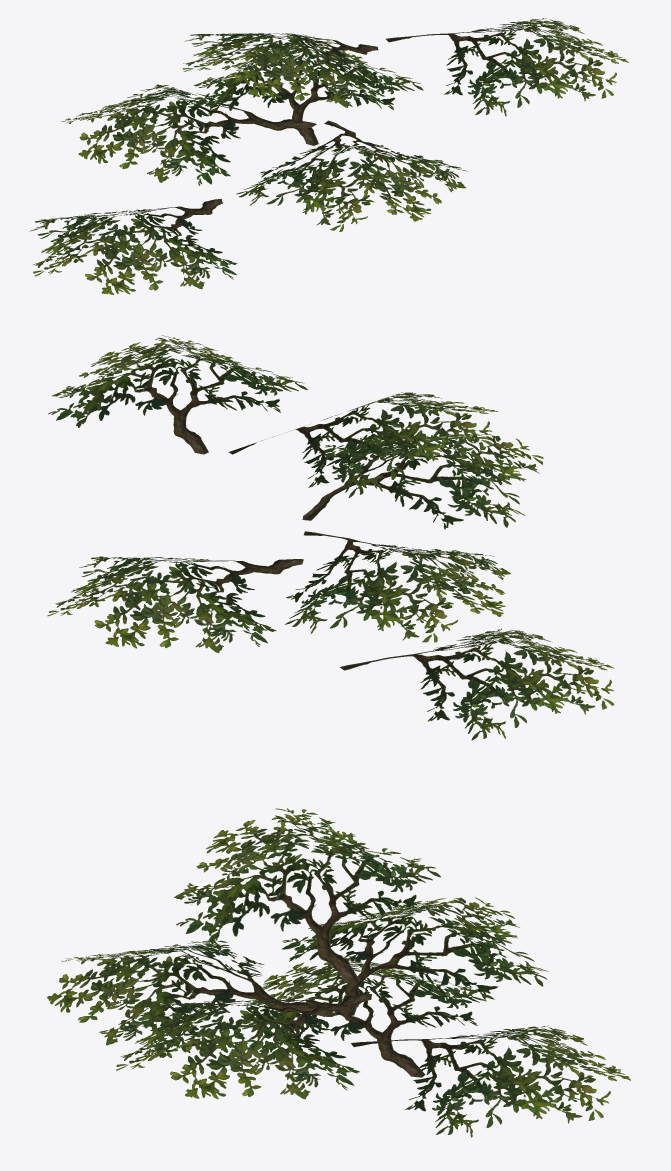
Rendered from fxmg_shuye4.FBX.
3 renders of one model, top to bottom at view 1: azimuth 30°, elevation 25°; view 2: azimuth 150°, elevation 25°; view 3: azimuth 270°, elevation 25°, orthographic. The views are drawn at different scales.
Parts seen in each view (by area): view 1: KLMSM_shuye4; view 2: KLMSM_shuye4; view 3: KLMSM_shuye4.
Boxes of the visible parts, x1,y1,x2,y2 form: KLMSM_shuye4: (29, 18, 628, 294); KLMSM_shuye4: (47, 335, 614, 740); KLMSM_shuye4: (47, 808, 630, 1137).
Bounding box in the file's own units: 1003 × 365 × 858.
